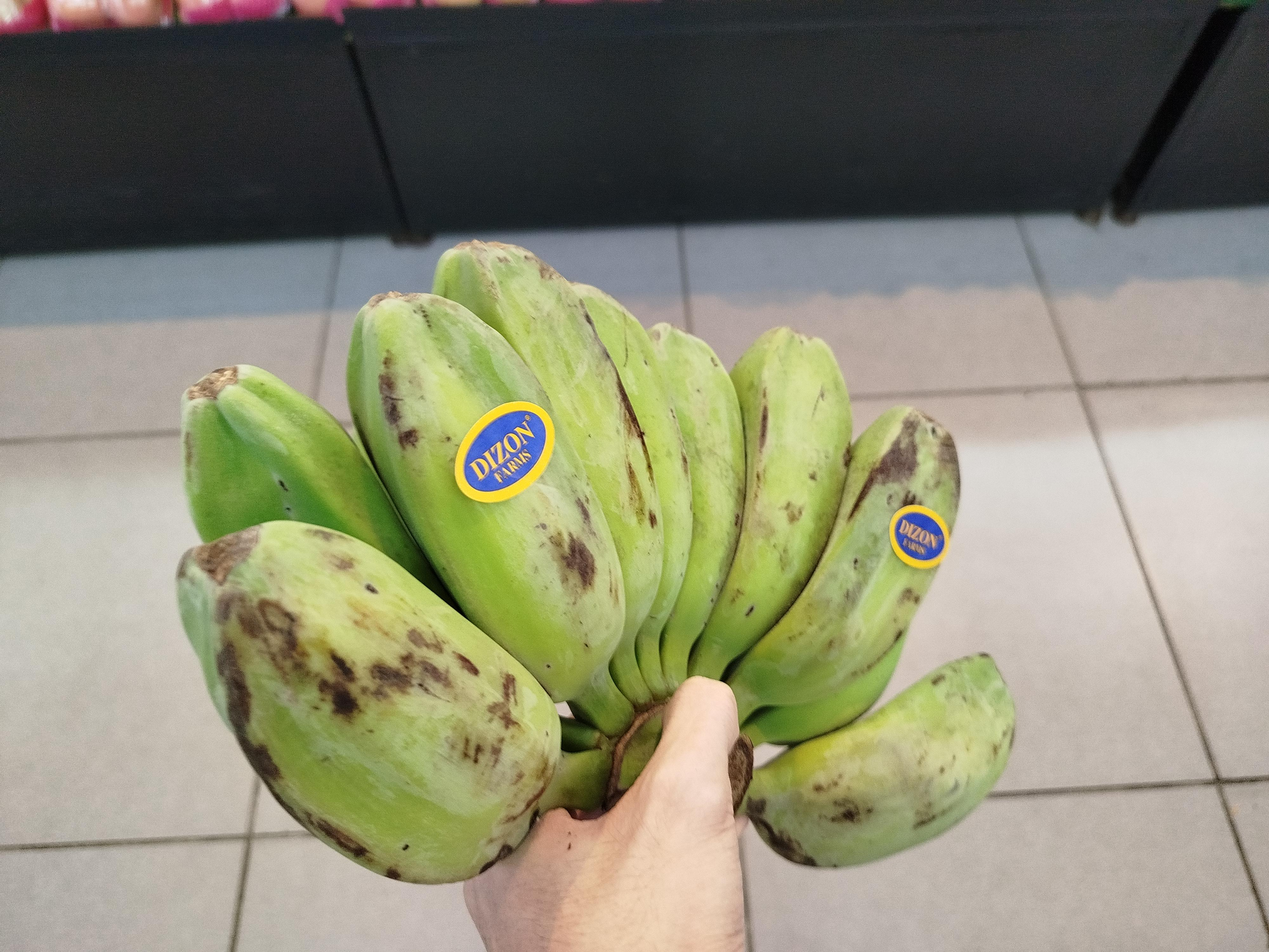underripe: (176, 240, 1014, 883)
